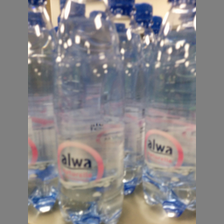water: (52, 1, 127, 224), (143, 1, 195, 217)
